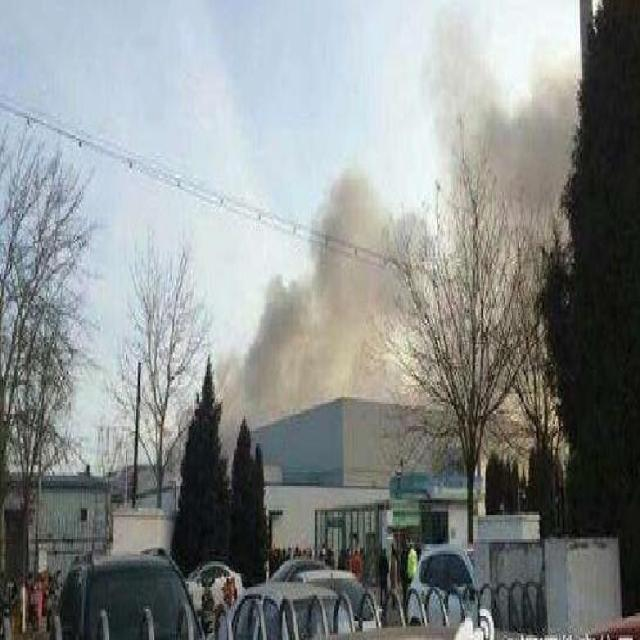Smoke: (212, 191, 426, 426), (421, 0, 579, 208)
